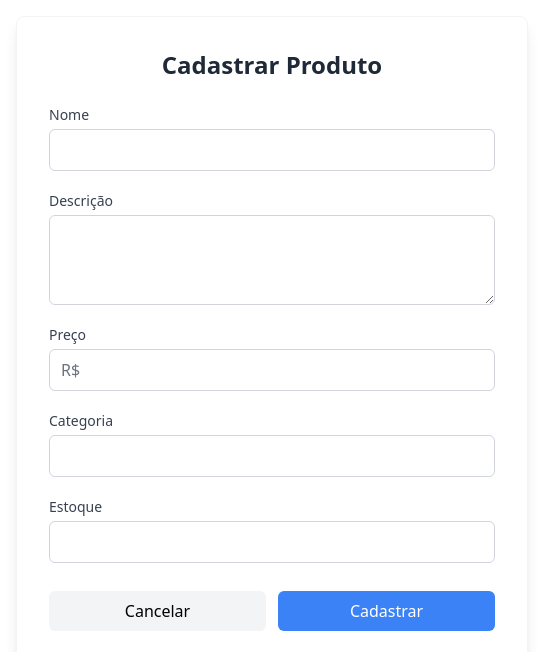
it: ProductForm › limpa a mensagem de erro assim que o usuário corrige o campo
The width and height of the screenshot is (545, 652).
Click the button "Cadastrar" at (386, 611), box [278,591,495,631]
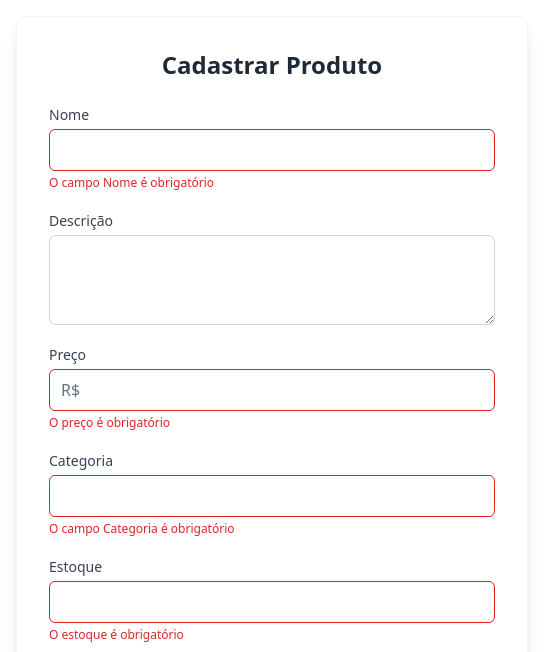
Check: the text "O campo Nome é obrigatório" is shown, box [49,174,214,191]
Type "Fone de Ouvido" into the field labelled "Nome" at (272, 150), box [49,129,495,171]
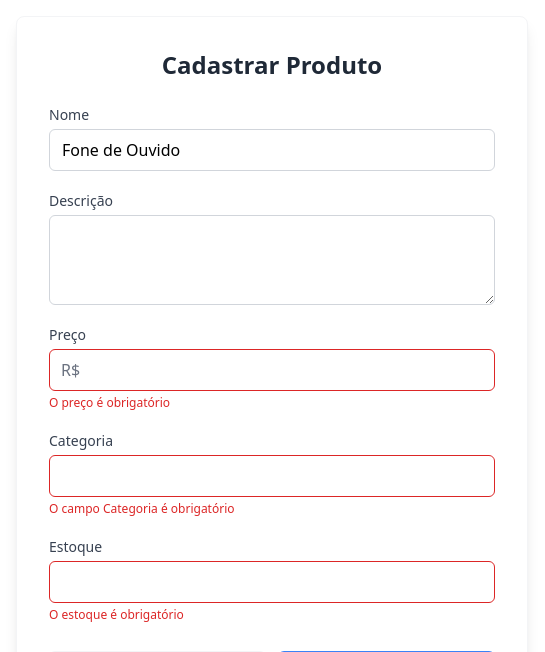
Check: the text "O campo Nome é obrigatório" is gone
